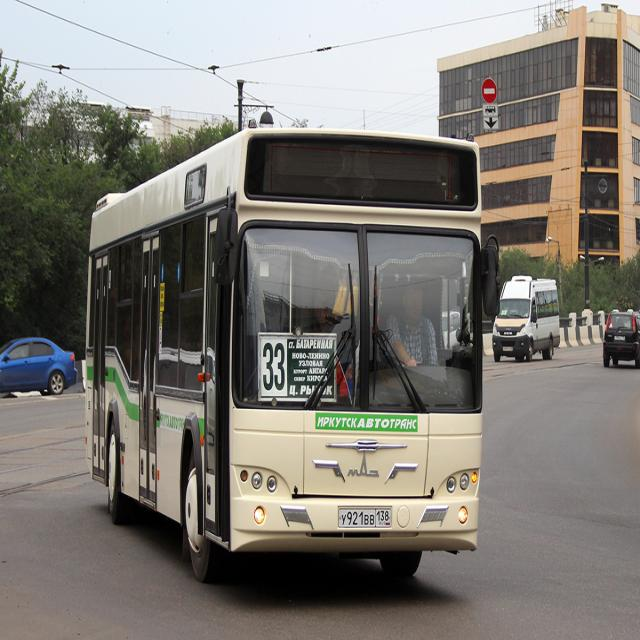number-of-bus: (261, 338, 287, 397)
